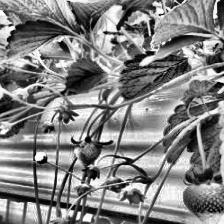Powdery Mildew Fruit: (182, 183, 224, 224), (74, 137, 102, 170)
